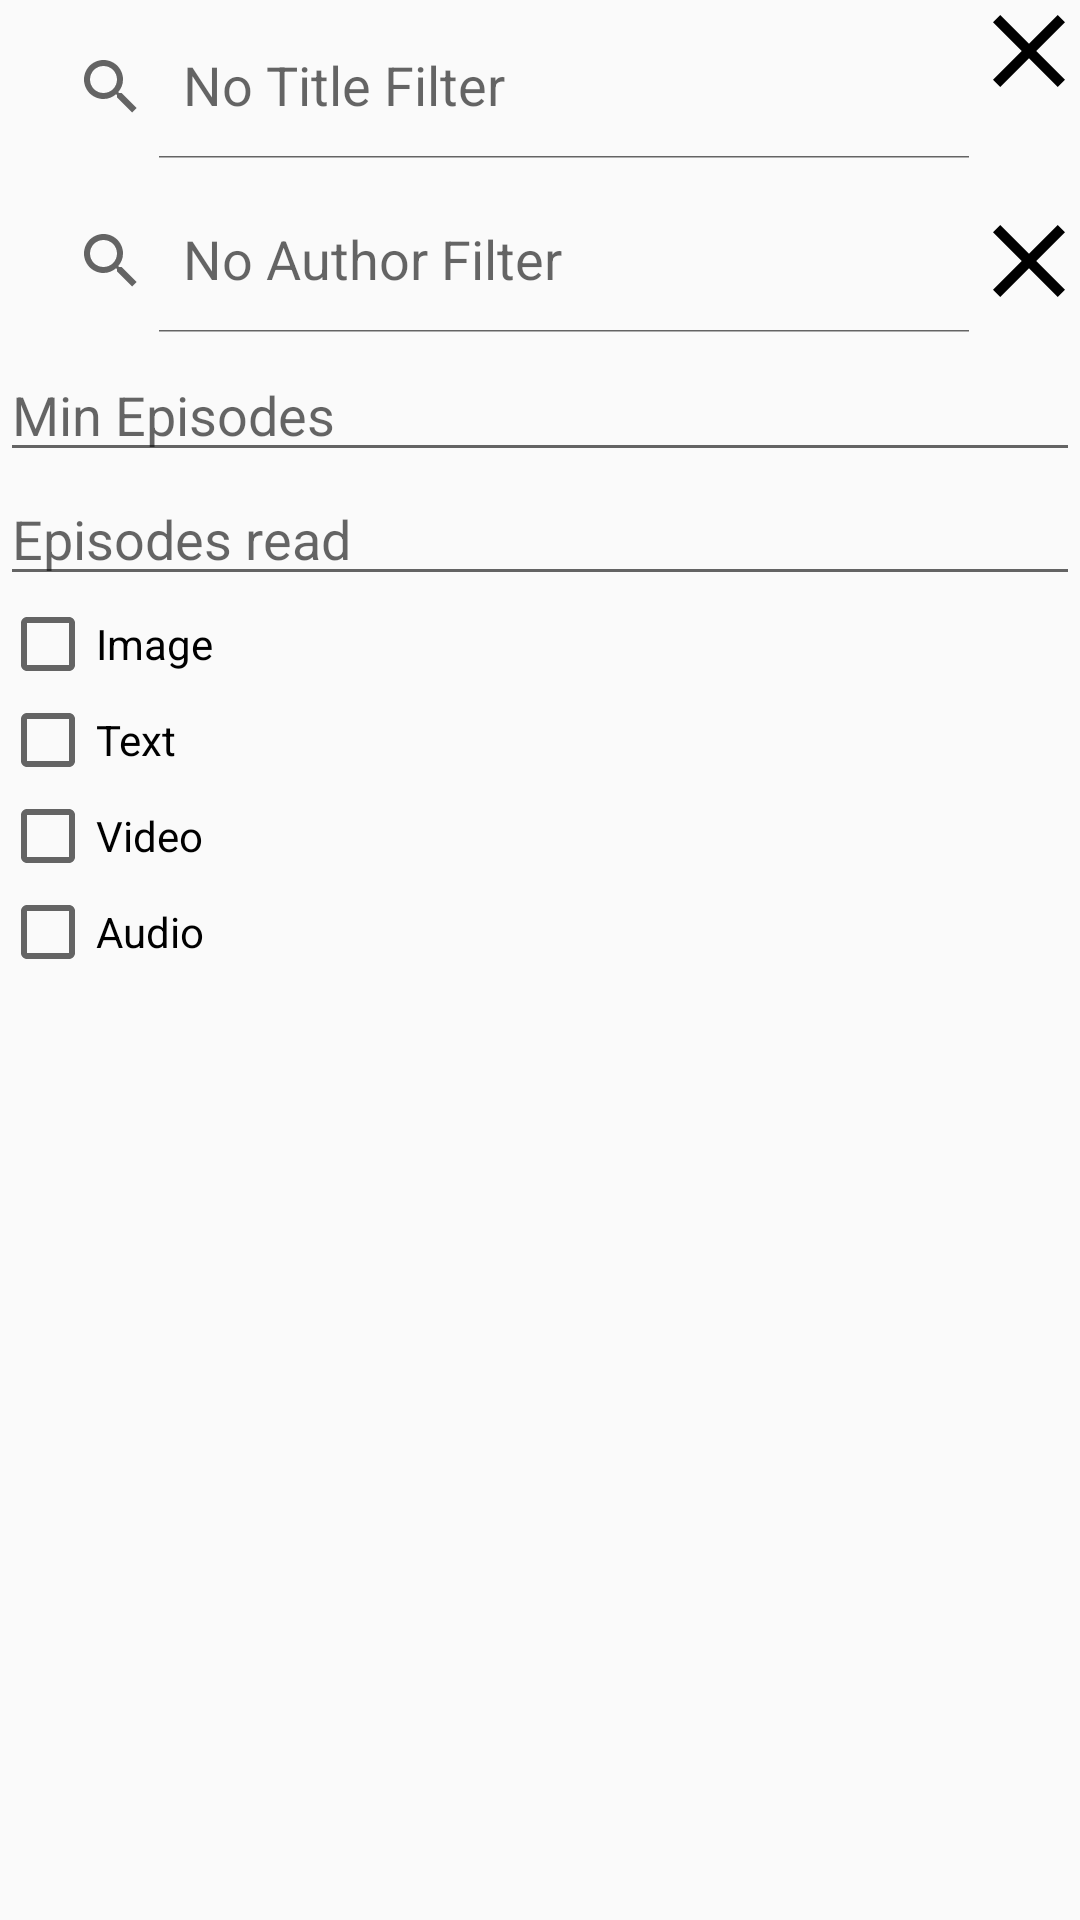

Named icons in this screenshot (1080px x 1920px) and their bounding boxes, [x1,y1,x2,y2]:
Clear Author Filter: [993,225,1065,297]
Clear Title Filter: [993,15,1065,87]
